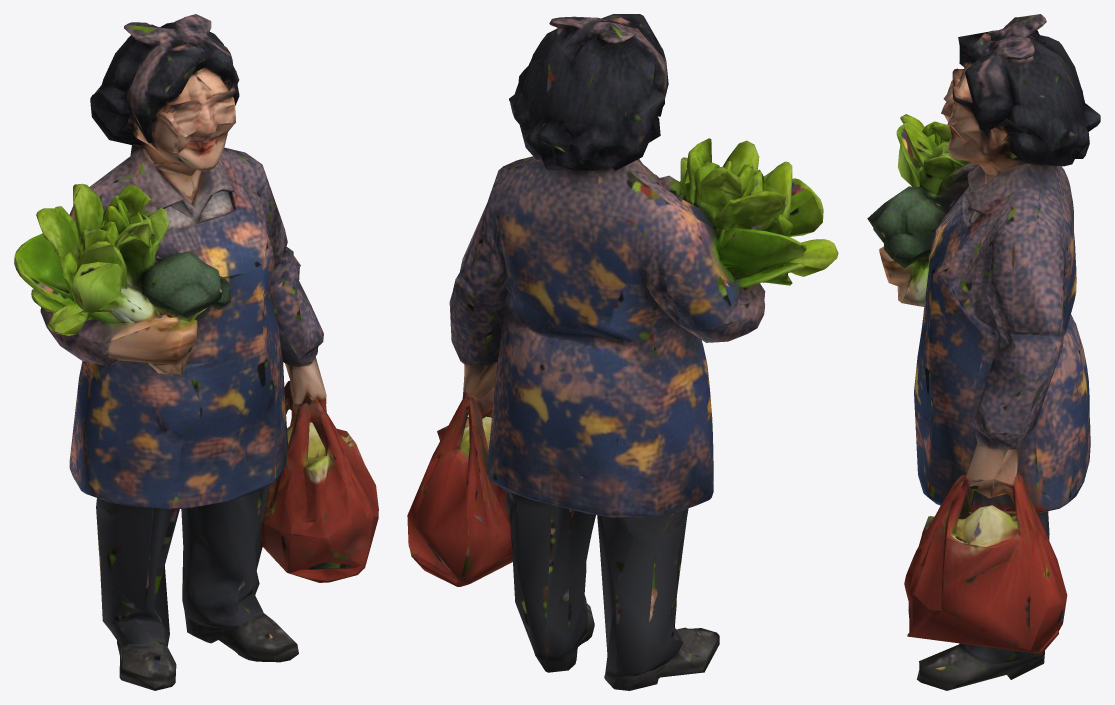
The model's file is hometown_granny.glb.
3 renders of one model, left to right at view 1: azimuth 30°, elevation 25°; view 2: azimuth 150°, elevation 25°; view 3: azimuth 270°, elevation 25°, orthographic. The views are drawn at different scales.
Parts seen in each view (by area): view 1: world; view 2: world; view 3: world.
Boxes of the visible parts, box(x1,y1,x2,y2) form: world: box(14, 14, 378, 690); world: box(407, 14, 838, 690); world: box(867, 14, 1100, 690).
Bounding box in the file's own units: 0.3536 × 0.5989 × 0.2046.
1 material, 1 textured.
